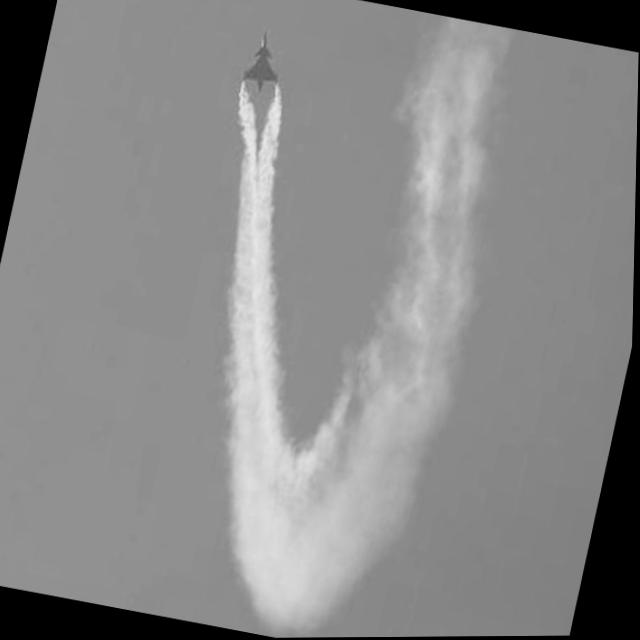aeroplane: (238, 29, 295, 100)
